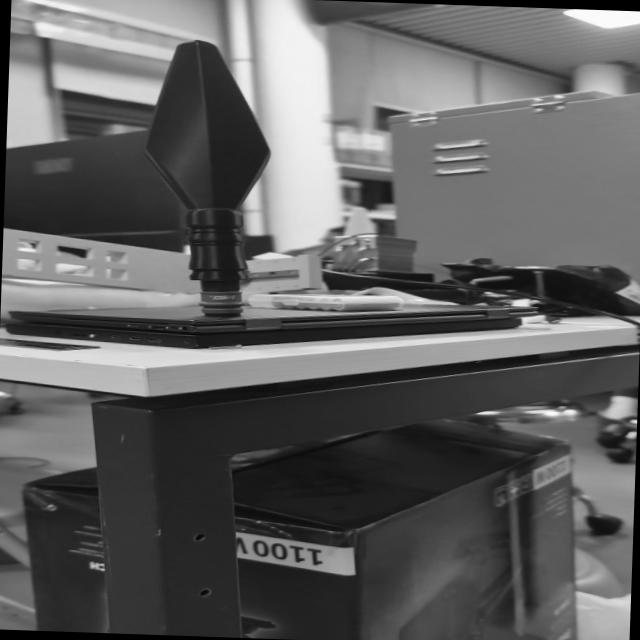base: (198, 290, 245, 316)
